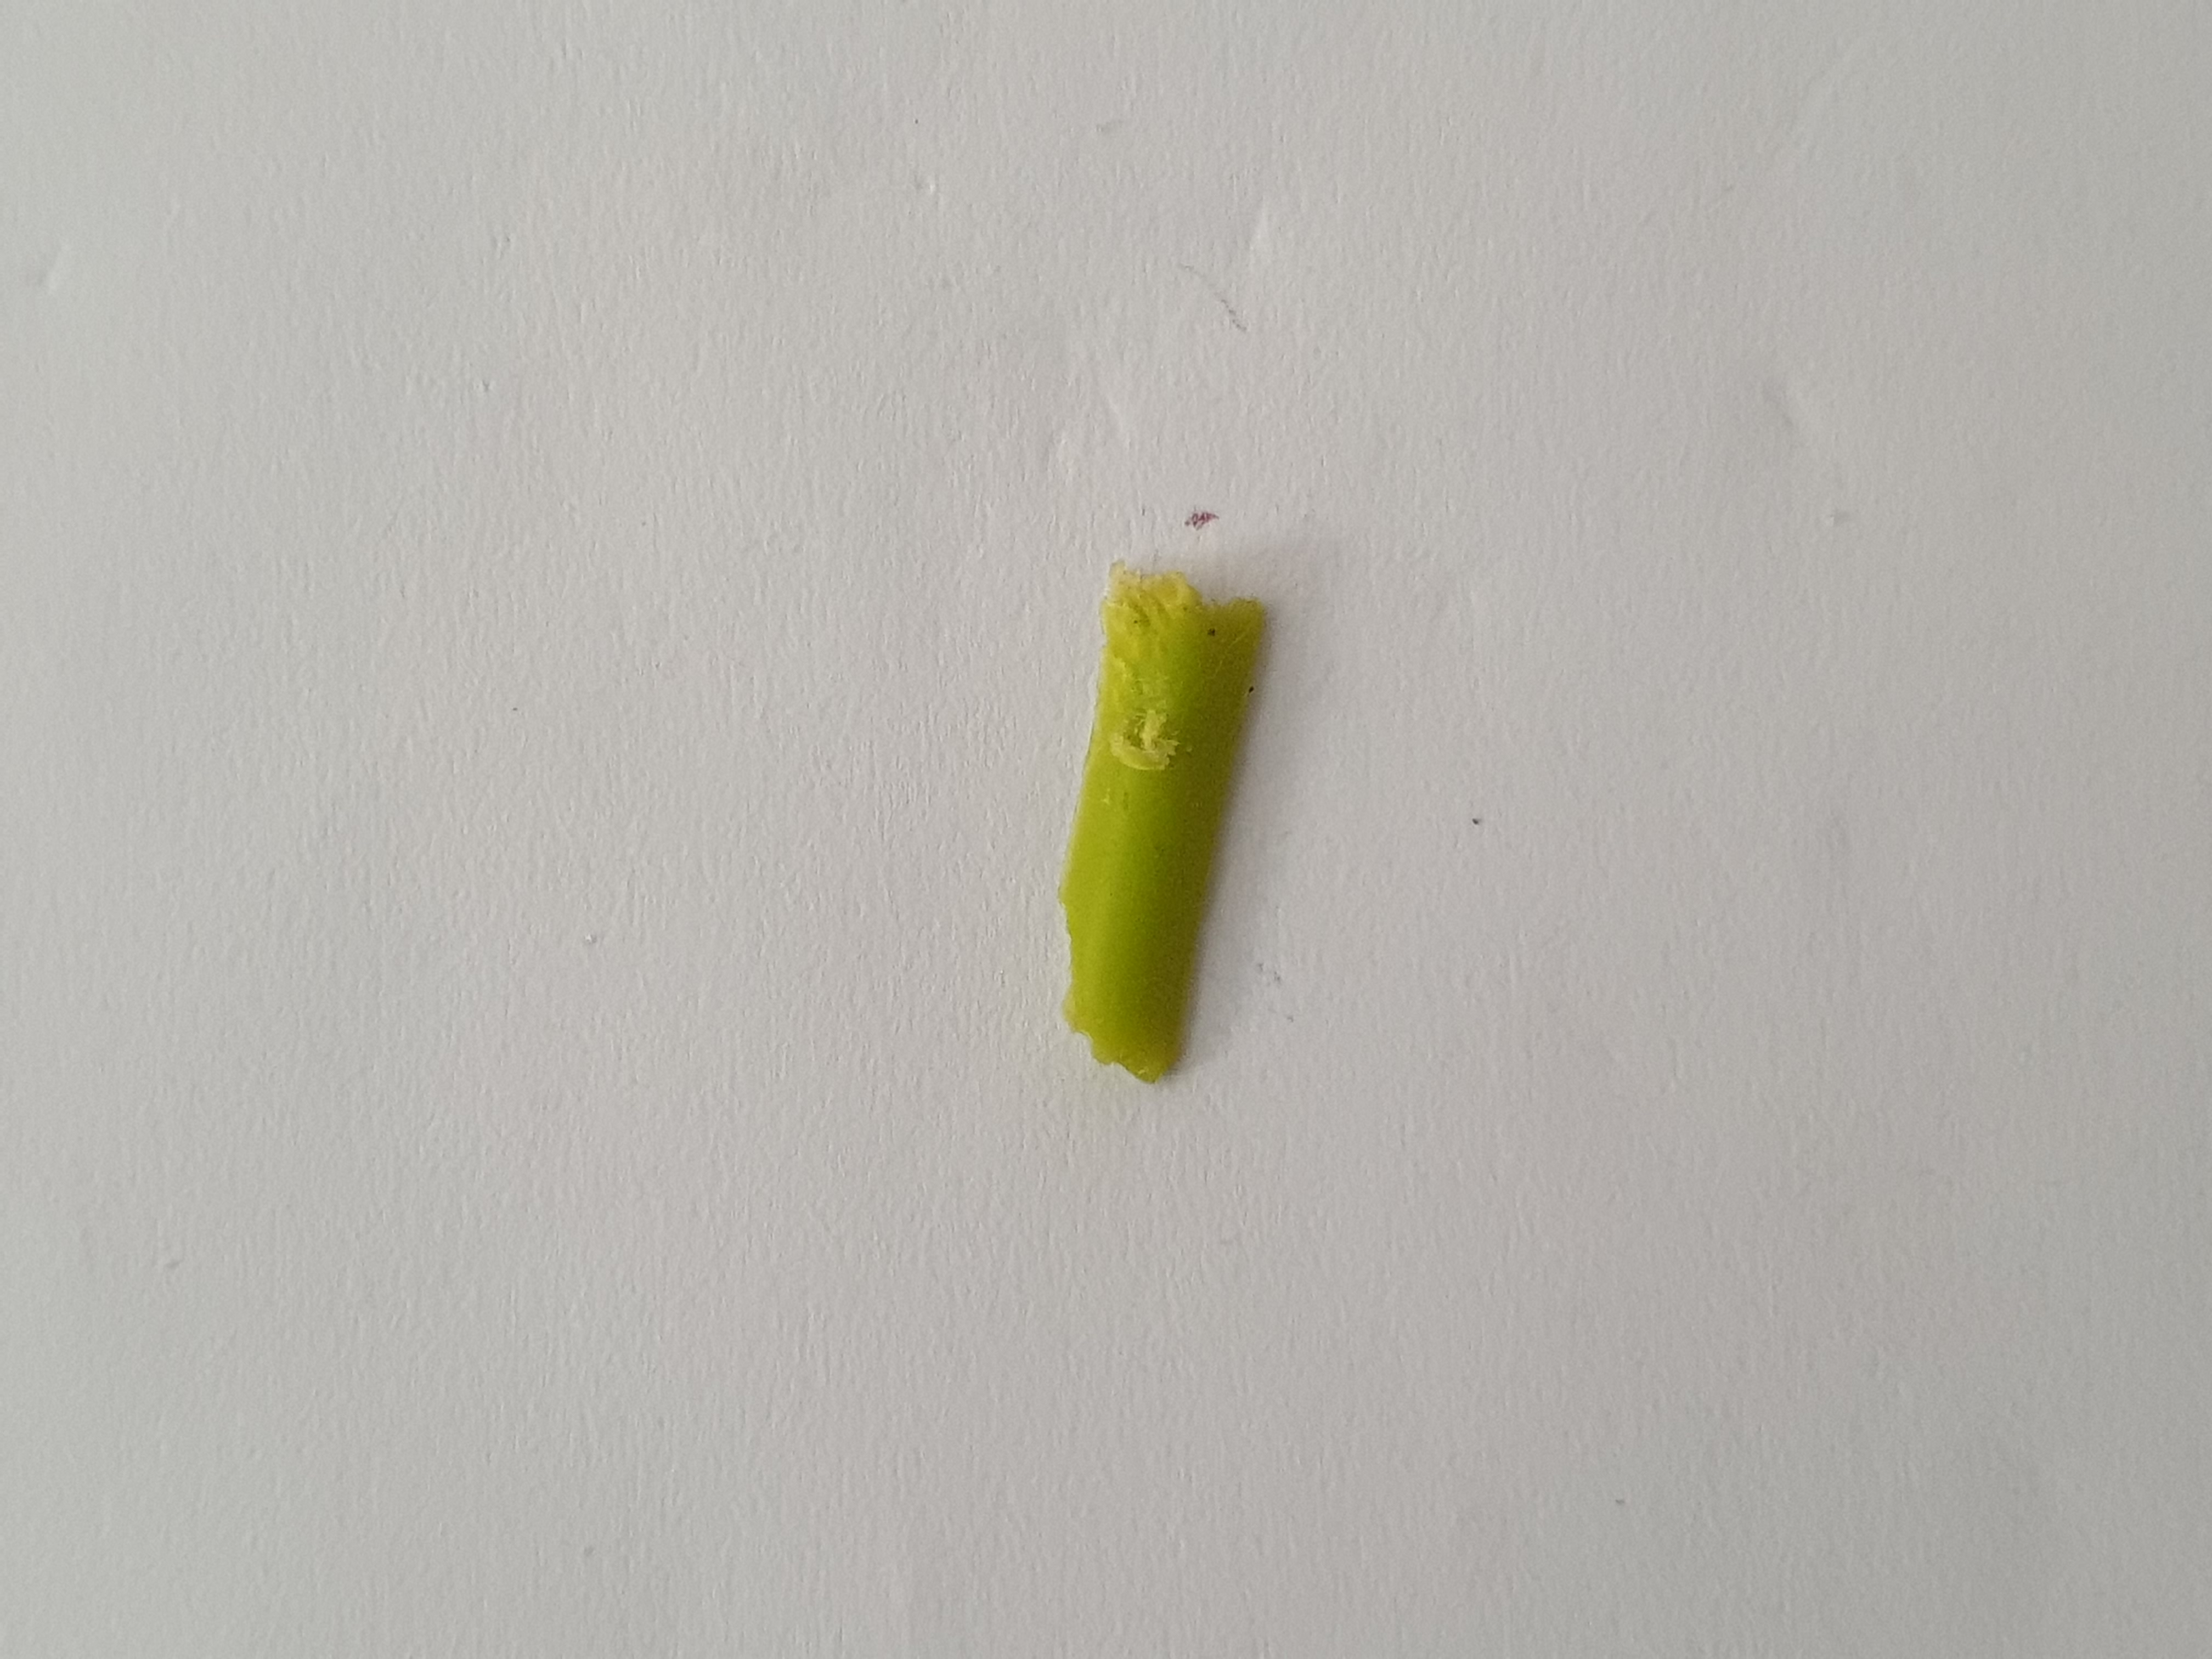plastic: (1036, 538, 1317, 1124)
